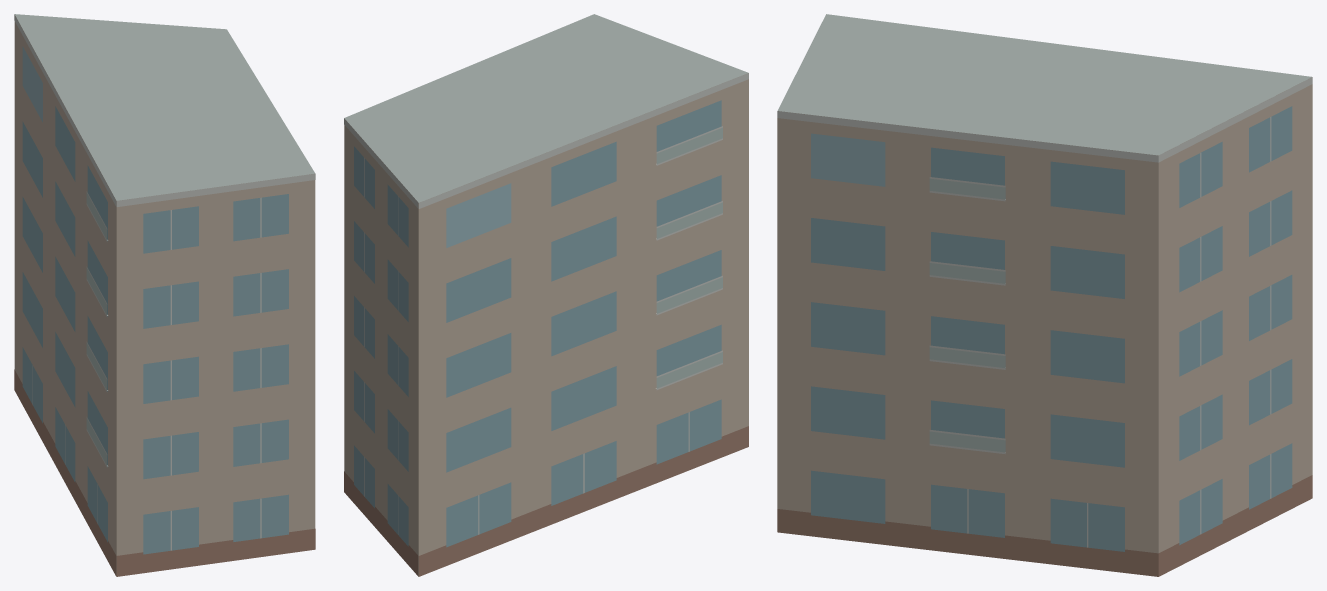
File: survey-upis-32955100.glb
The picture shows the model from 3 angles, left to right: view 1: azimuth 30°, elevation 25°; view 2: azimuth 150°, elevation 25°; view 3: azimuth 270°, elevation 25°; orthographic projection. The views are drawn at different scales.
Parts seen in each view (by area): view 1: survey-upis-32955100.tmp; view 2: survey-upis-32955100.tmp; view 3: survey-upis-32955100.tmp.
Part boxes in pixels (x1,y1,x2,y2): survey-upis-32955100.tmp: (14,14,315,576); survey-upis-32955100.tmp: (344,14,748,576); survey-upis-32955100.tmp: (777,14,1312,576).
Size of the model in its own units: 10.38 by 14.4 by 16.58.
